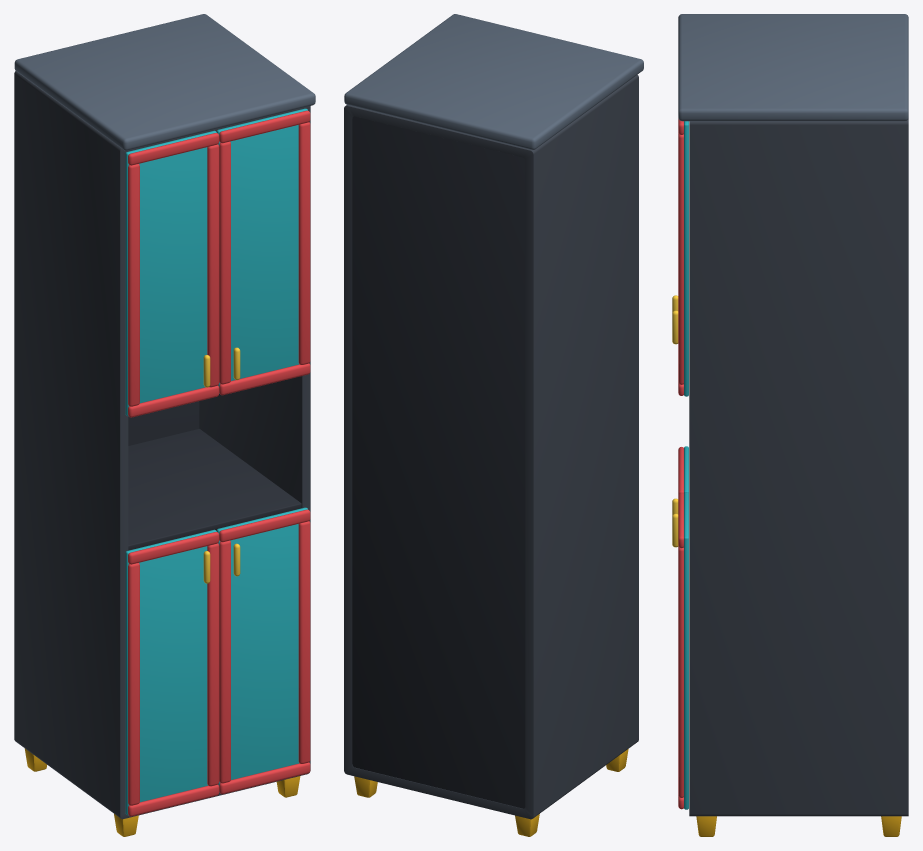
Rendered from paneleiro_grafite.glb.
3 renders of one model, left to right at view 1: azimuth 30°, elevation 25°; view 2: azimuth 150°, elevation 25°; view 3: azimuth 270°, elevation 25°, orthographic. The views are drawn at different scales.
Visible parts, largest first — view 1: paneleiro_grafite, porta_1, porta_3, porta_4, porta_2; view 2: paneleiro_grafite; view 3: paneleiro_grafite, porta_4, porta_2, porta_3.
Part boxes in pixels (x1,y1,x2,y2): paneleiro_grafite: (14,14,315,836); porta_1: (125,130,219,417); porta_3: (125,529,219,816); porta_4: (216,507,310,794); porta_2: (216,108,310,395); paneleiro_grafite: (344,14,643,836); paneleiro_grafite: (678,14,908,836); porta_4: (672,492,688,809); porta_2: (672,118,688,396); porta_3: (672,446,688,515).
Size of the model in its own units: 0.598 by 2.1 by 0.6147.
Materials: 1 (1 with a texture image).
